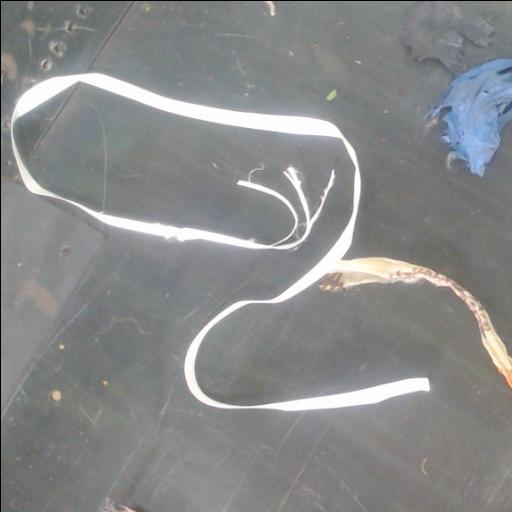cloth: (321, 258, 512, 389), (405, 1, 512, 175)
conveyor belt: (1, 85, 512, 512), (1, 1, 512, 353)
thread: (10, 72, 428, 410)
